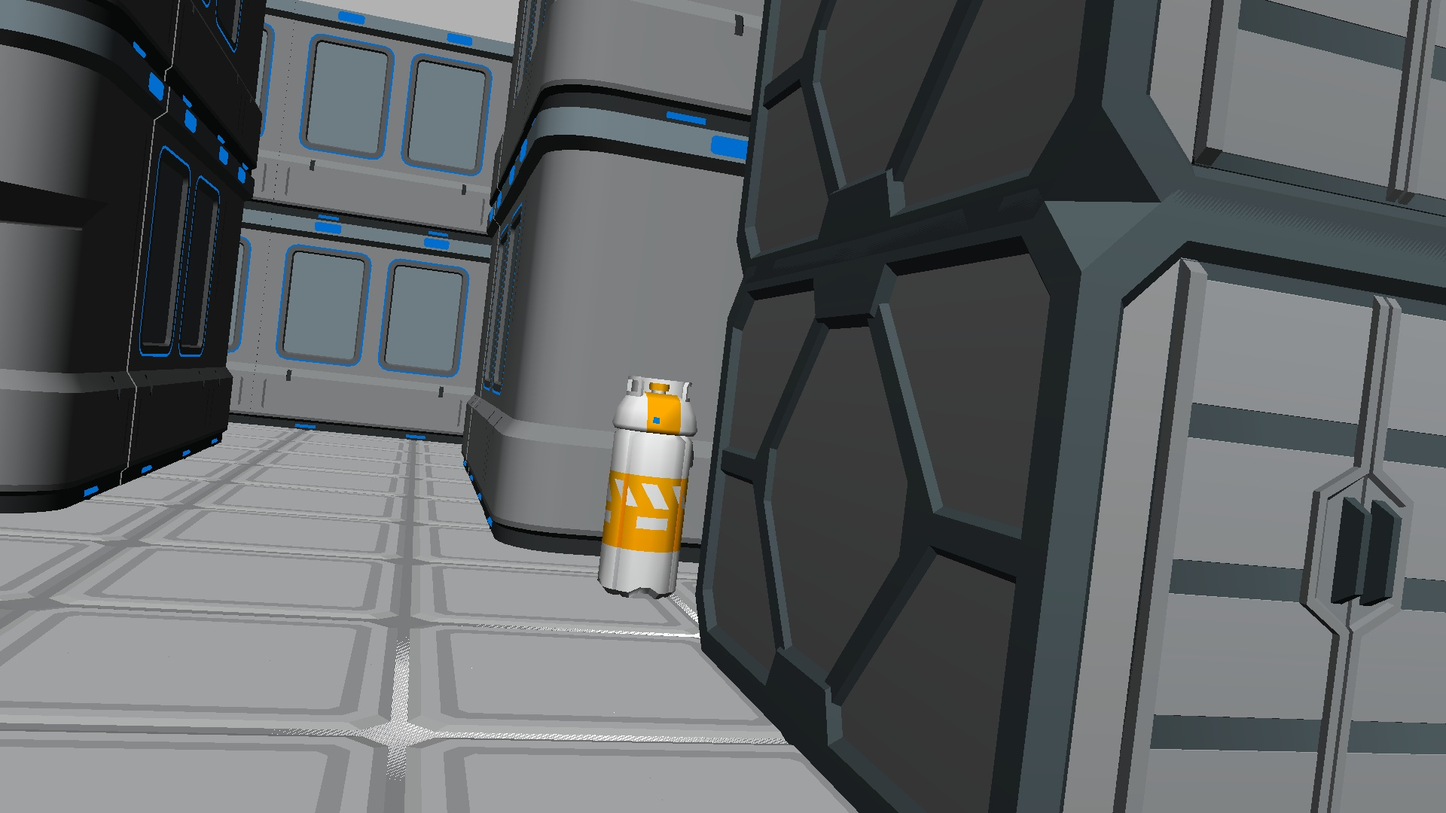yellow barrel: (598, 376, 696, 598)
